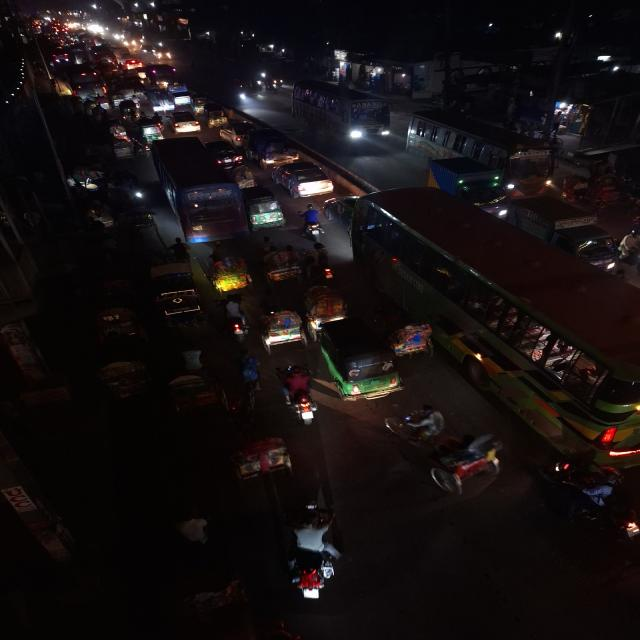bus: (344, 185, 640, 452), (150, 139, 242, 241), (59, 66, 104, 98)
car: (413, 108, 554, 185), (285, 77, 397, 153), (273, 160, 338, 202), (167, 108, 201, 135)
cng: (316, 322, 400, 403), (245, 190, 287, 228), (204, 103, 229, 132), (139, 122, 164, 141), (188, 94, 210, 115)
motorcycle: (548, 457, 640, 543), (281, 506, 343, 613), (275, 362, 324, 434), (212, 297, 253, 343), (299, 206, 330, 242)
rickshaw: (384, 408, 505, 490), (211, 427, 297, 491), (144, 254, 208, 336), (83, 352, 159, 410), (164, 370, 227, 436), (201, 253, 250, 299), (266, 244, 300, 292)
truck: (520, 199, 623, 275), (427, 154, 511, 208)
